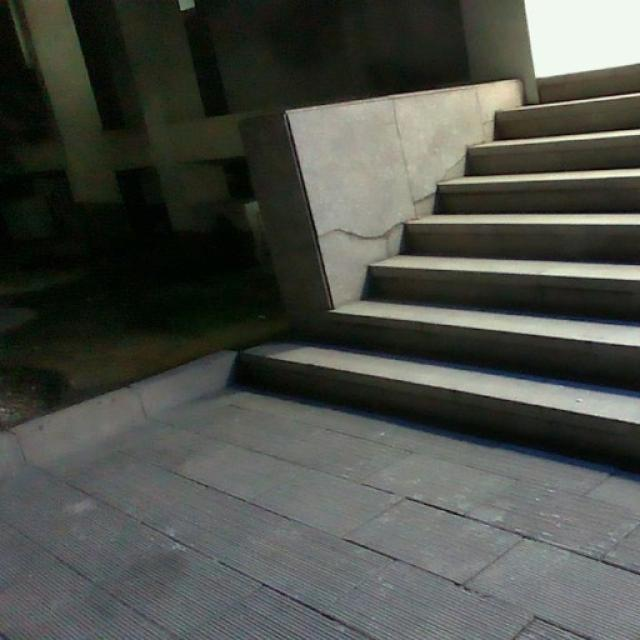stair: (237, 0, 639, 465)
